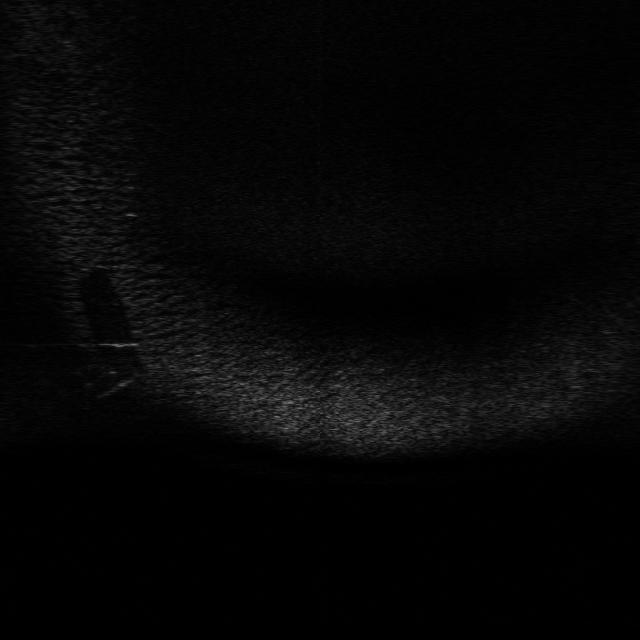cube: (73, 357, 142, 400)
